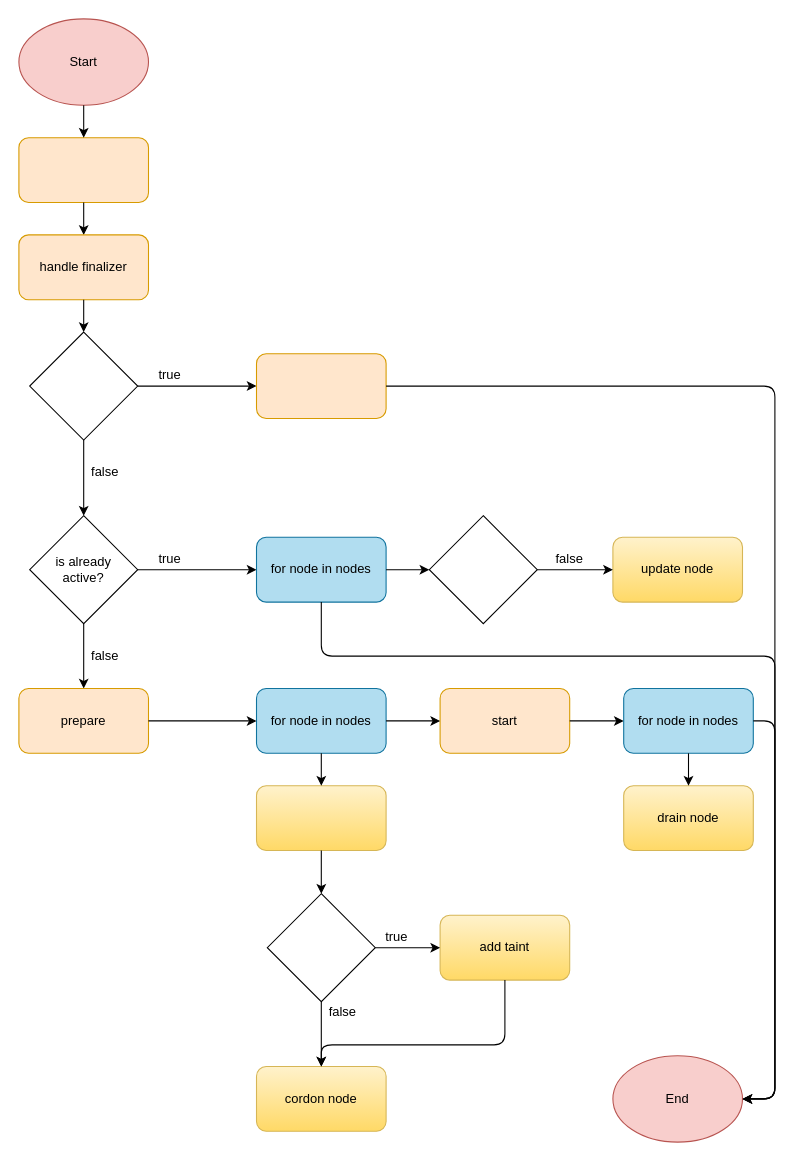
Some shapes in this 802 by 1161 pixel diagram are drawn without their labels. Here are the shapes that lost their labels. From the top down, the box of each, then its label:
(18, 137, 148, 202): init struct
(29, 331, 138, 440): deletion timestamp?
(255, 353, 386, 418): remove quarantine
(428, 515, 537, 624): all resources rescheduled?
(255, 785, 386, 850): isolate requested pods
(266, 893, 375, 1002): isolate node?
